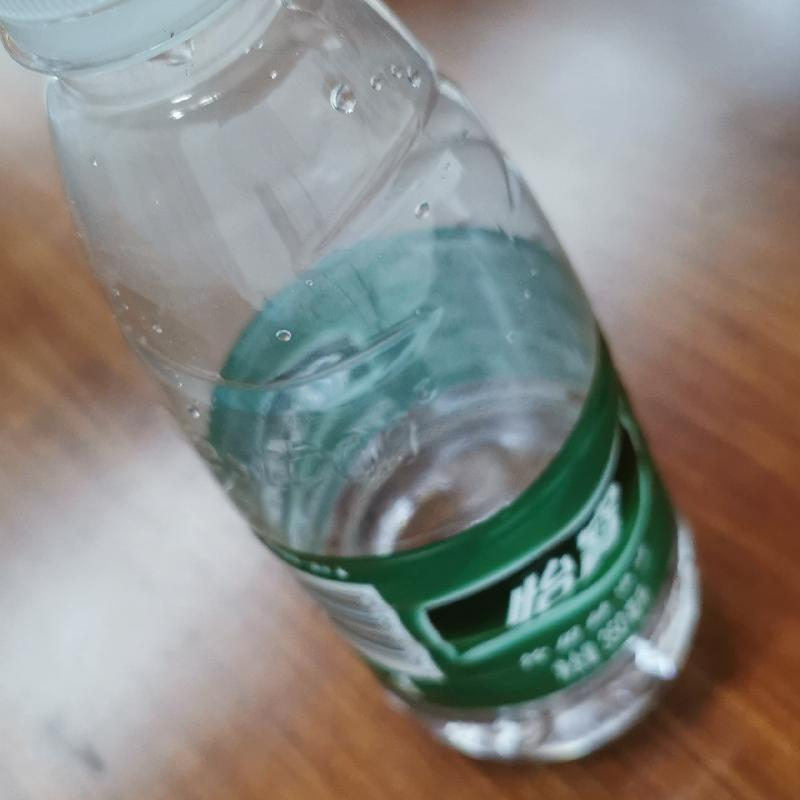bottles: (0, 1, 704, 771)
